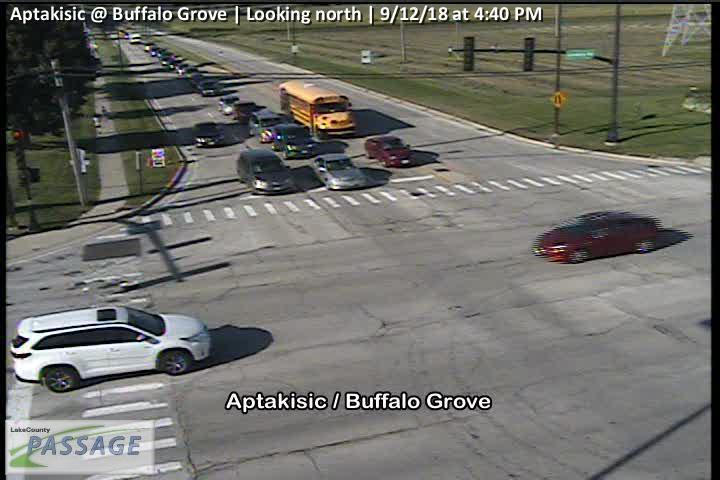Bus: (278, 79, 357, 141)
SUV: (9, 304, 213, 395), (237, 149, 298, 194), (273, 122, 314, 161), (248, 108, 282, 143), (232, 100, 257, 121), (217, 94, 240, 115)
Sedan: (532, 212, 660, 264), (311, 152, 368, 190), (365, 135, 415, 167), (192, 121, 226, 149), (195, 78, 221, 96)
